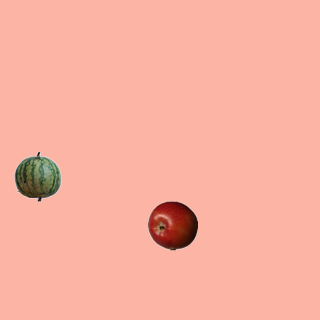Apple Braeburn: (147, 200, 197, 250)
Watermelon: (12, 151, 62, 201)
